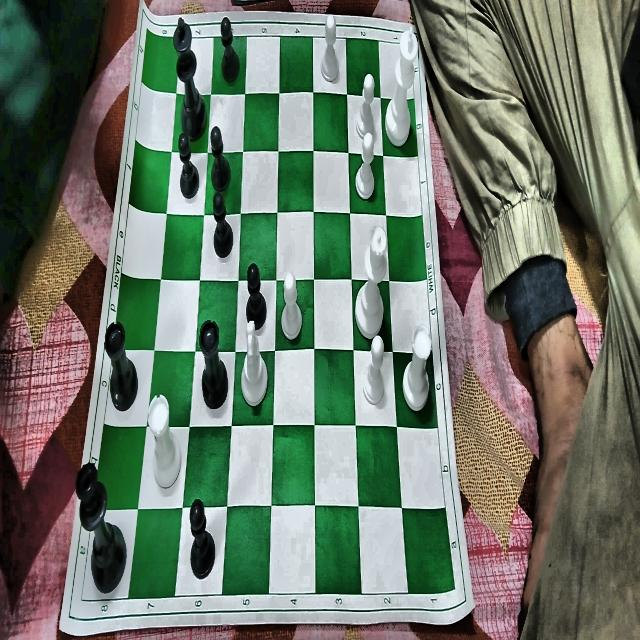BlackKing: (172, 15, 208, 140)
BlackPawn: (189, 499, 216, 579), (212, 190, 233, 258), (179, 133, 200, 200), (246, 264, 267, 329), (211, 126, 231, 193), (221, 16, 240, 84)
BlackQueen: (76, 462, 127, 592)
BlackRook: (103, 320, 139, 414), (199, 320, 228, 410)
WhiteKing: (386, 24, 418, 146)
WhiteKnight: (241, 320, 268, 408)
WhitePawn: (280, 273, 302, 341), (362, 336, 384, 404), (320, 17, 340, 82), (356, 132, 375, 200), (356, 73, 376, 137)
WhiteQueen: (355, 222, 387, 341)
WhiteRook: (148, 394, 181, 489), (403, 328, 431, 411)
